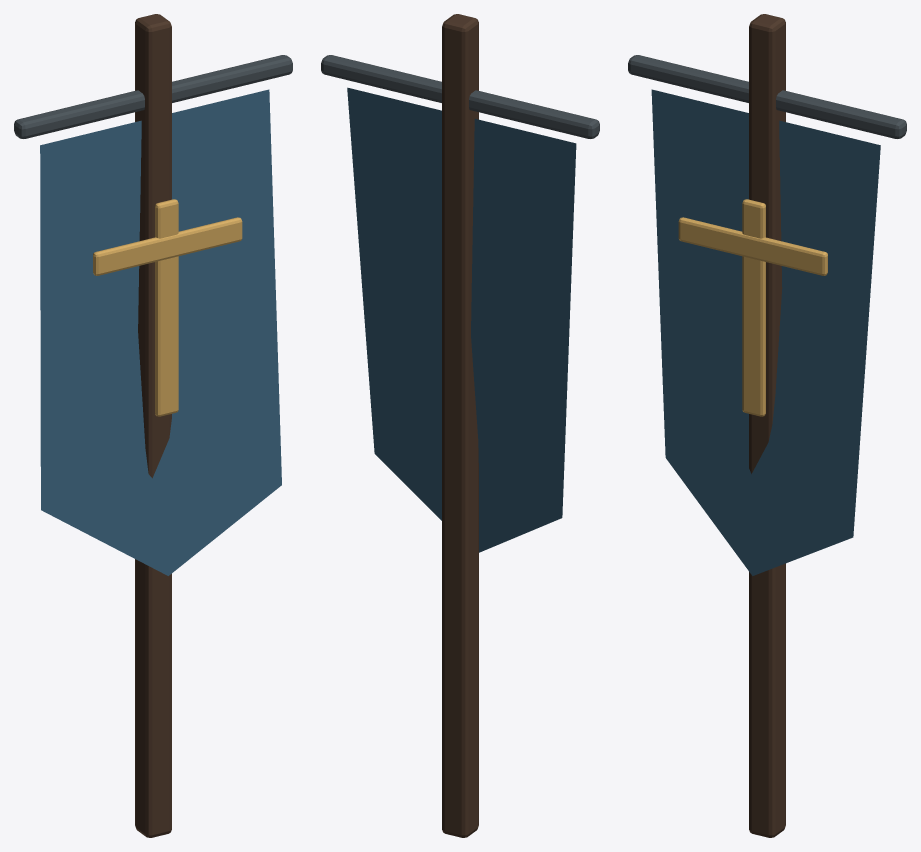
File: royal_banner.glb
3 renders of one model, left to right at view 1: azimuth 30°, elevation 25°; view 2: azimuth 150°, elevation 25°; view 3: azimuth 330°, elevation 25°, orthographic.
Parts seen in each view (by area): view 1: royal_banner__structure, royal_banner__finish; view 2: royal_banner__structure; view 3: royal_banner__structure, royal_banner__finish.
Boxes of the visible parts, x1,y1,x2,y2 form: royal_banner__structure: (14,14,292,837); royal_banner__finish: (93,199,242,416); royal_banner__structure: (321,14,599,837); royal_banner__structure: (628,14,906,837); royal_banner__finish: (678,199,827,416).
Bounding box in the file's own units: 0.74 × 2.1 × 0.135.
